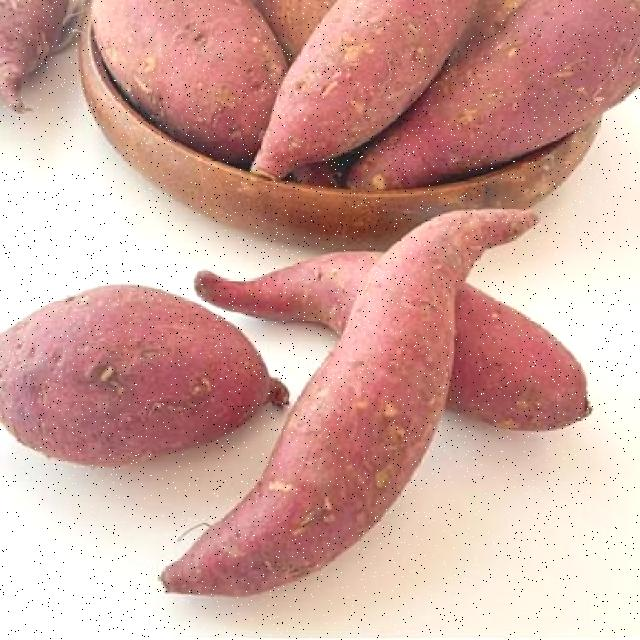Sweet Potato: (164, 201, 556, 613), (0, 252, 289, 471)
